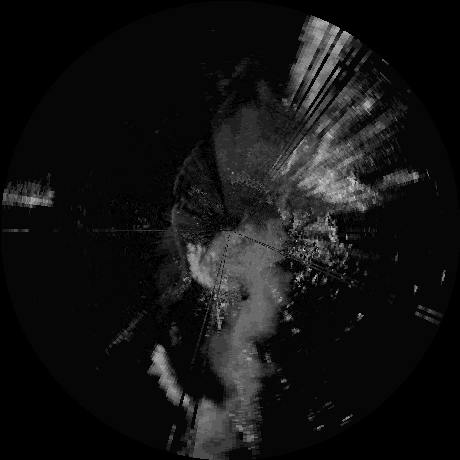frontgust: (170, 201, 190, 278), (174, 150, 191, 189)
